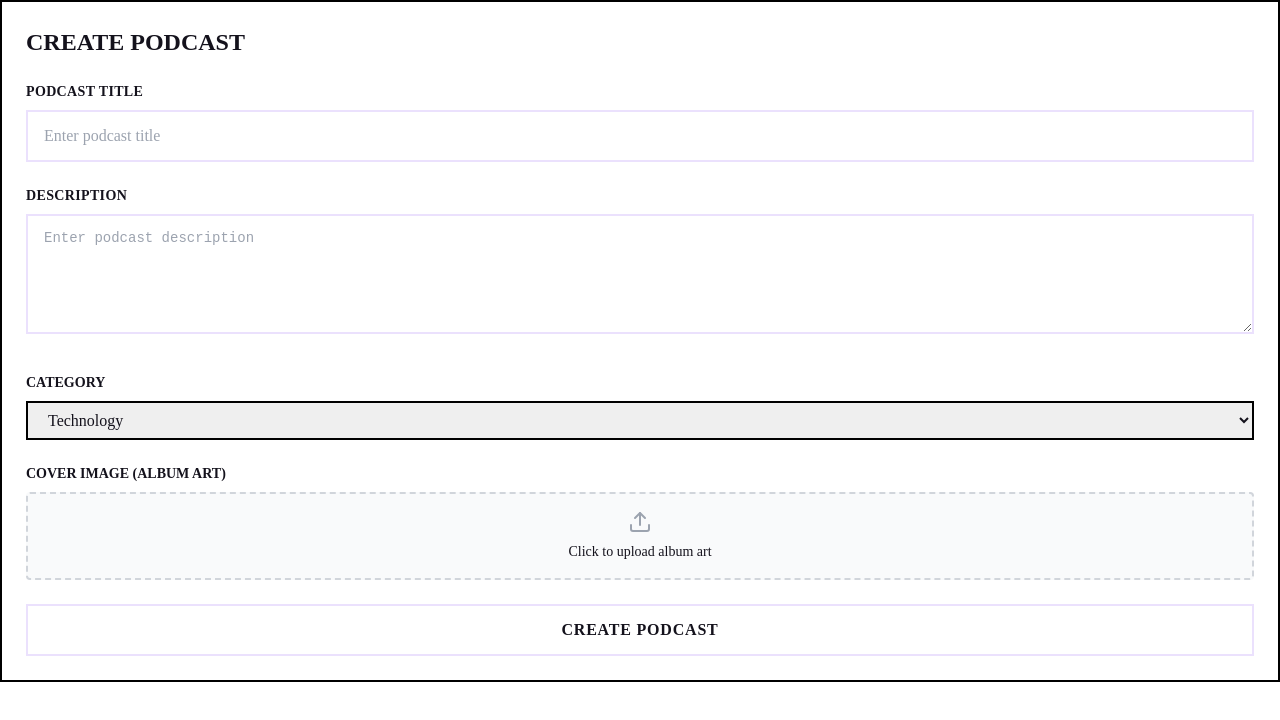
Test: CreatePodcastForm Component › should validate required fields
Click the button "Create Podcast".
click(640, 630)  # box [26,604,1254,656]
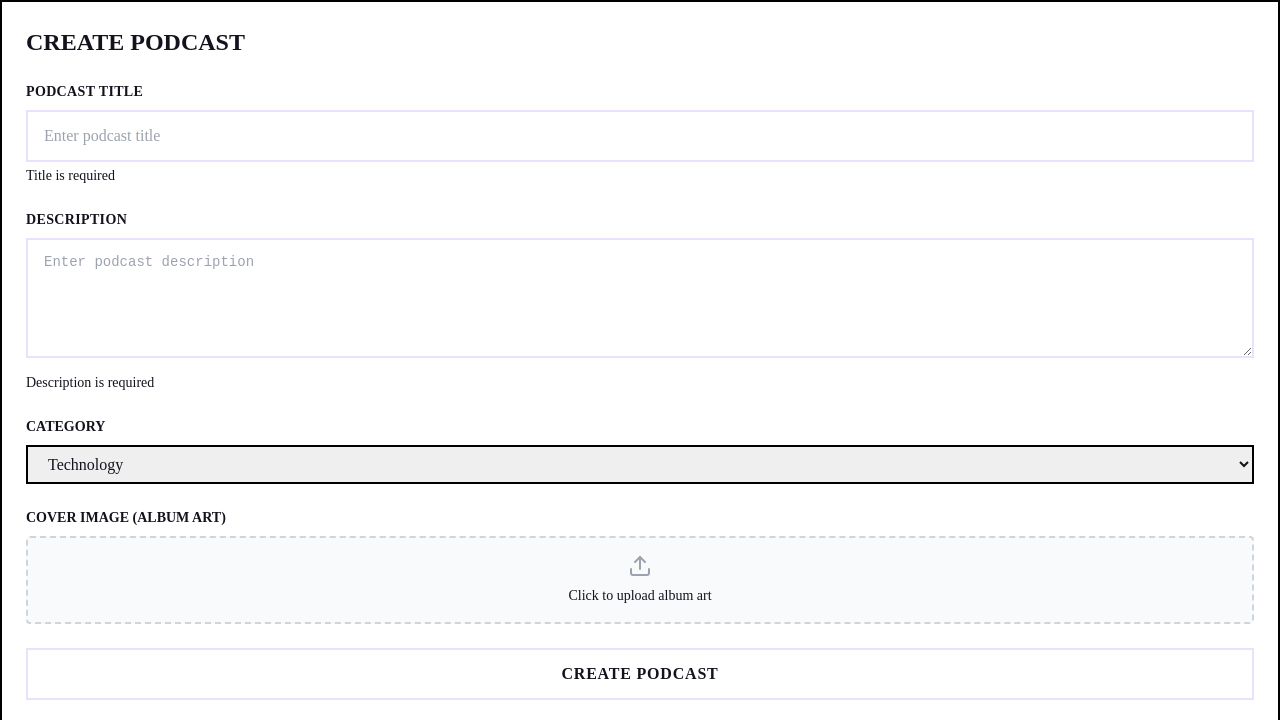
Expected: the text "Title is required" is shown, [26,168,115,183]
